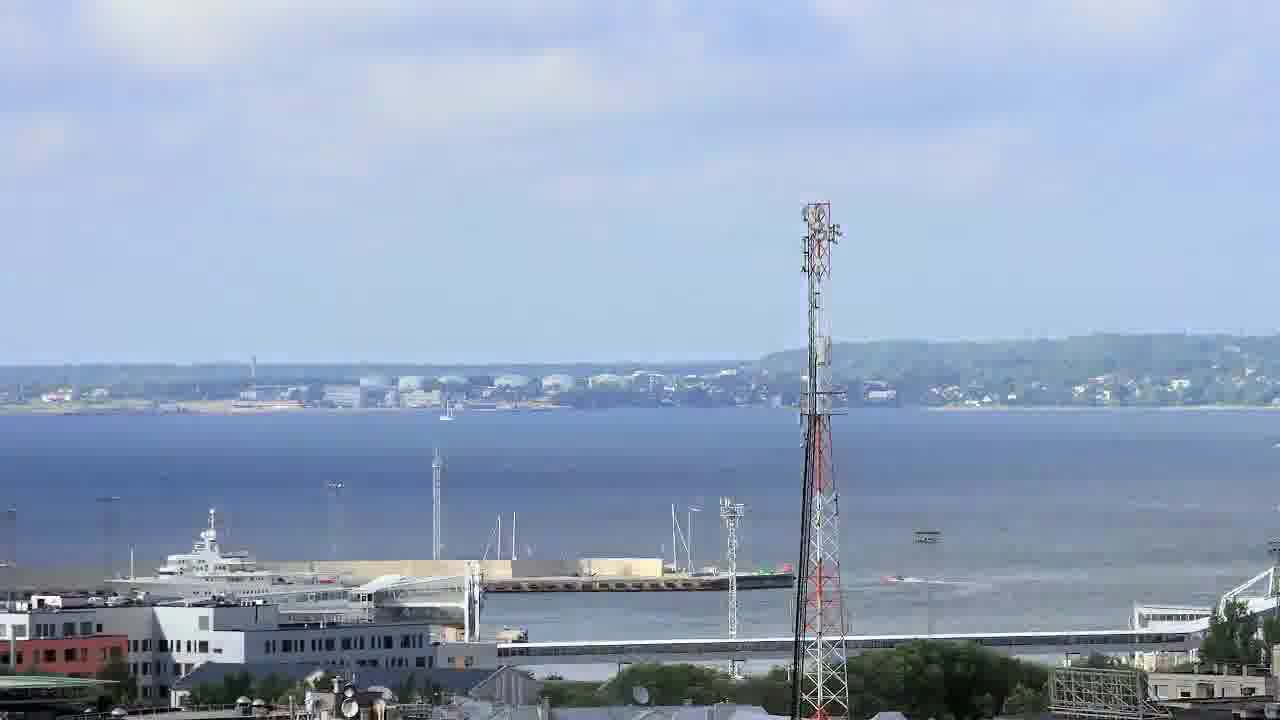type-3: (88, 500, 386, 611)
type-4: (862, 562, 933, 603)
